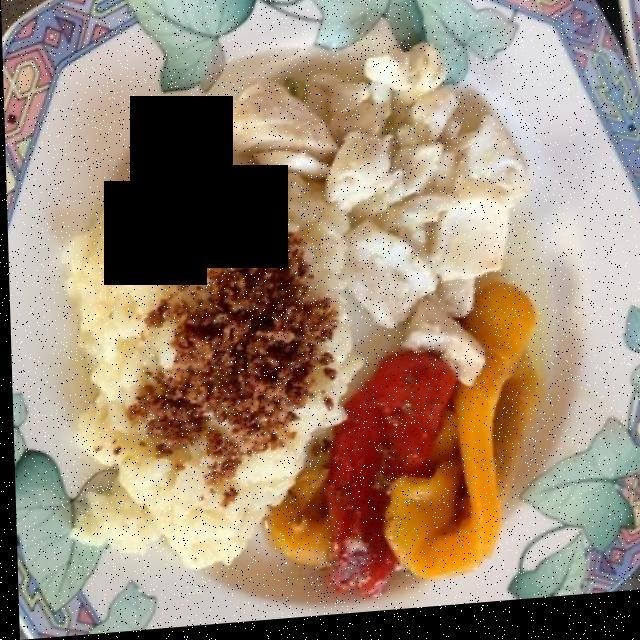bell-pepper: (260, 297, 537, 608)
breadcrumbs: (128, 158, 340, 513)
fish: (237, 61, 517, 355)
risotto: (62, 190, 351, 573), (125, 211, 338, 511)
